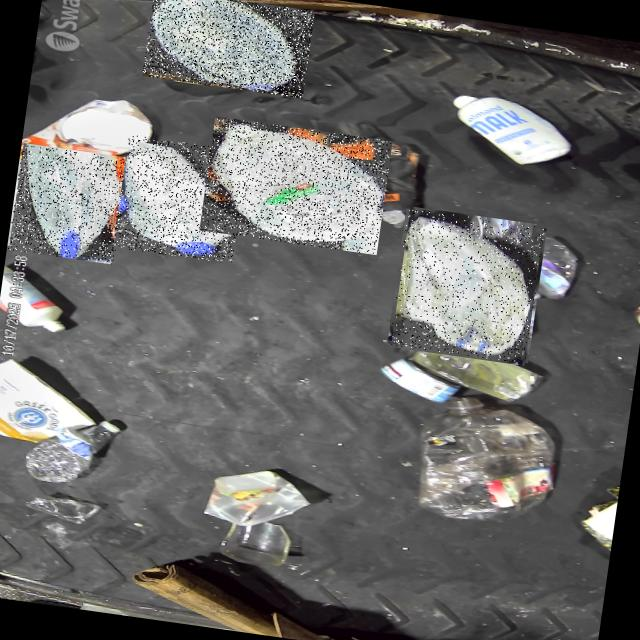milk-jug: (200, 116, 392, 254), (390, 207, 546, 363), (113, 133, 248, 263), (142, 0, 315, 97), (8, 143, 129, 264)
